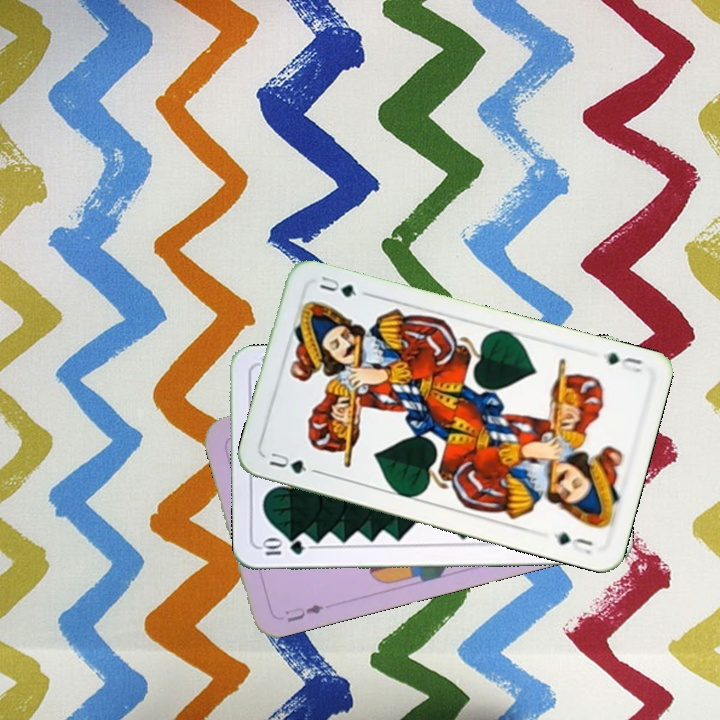EU: (281, 600, 326, 625)
G10: (258, 537, 307, 558)
GU: (598, 348, 646, 375), (265, 448, 309, 477)
